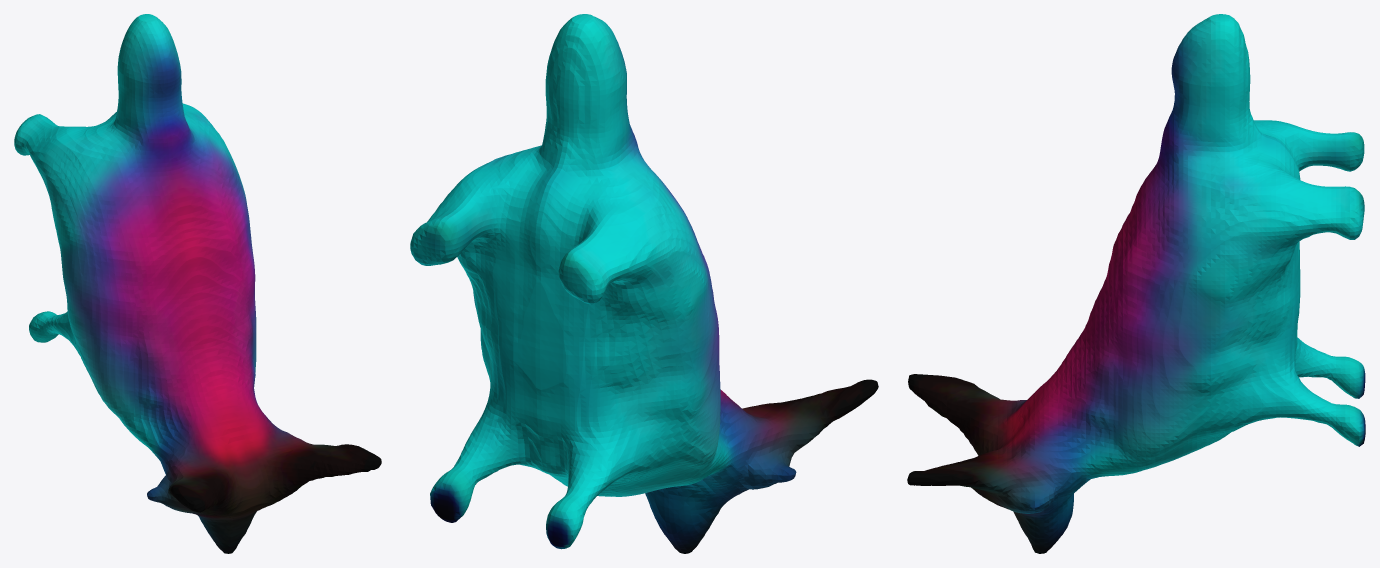
Rendered from a_corgi_cyber.glb.
3 renders of one model, left to right at view 1: azimuth 30°, elevation 25°; view 2: azimuth 150°, elevation 25°; view 3: azimuth 270°, elevation 25°, orthographic. The views are drawn at different scales.
Visible parts, largest first — view 1: 0.ply; view 2: 0.ply; view 3: 0.ply.
Boxes of the visible parts, left/top/right/bottom form: 0.ply: left=14, top=14, right=381, bottom=553; 0.ply: left=410, top=14, right=878, bottom=553; 0.ply: left=907, top=14, right=1365, bottom=553.
Size of the model in its own units: 0.8271 by 1.98 by 1.53.
